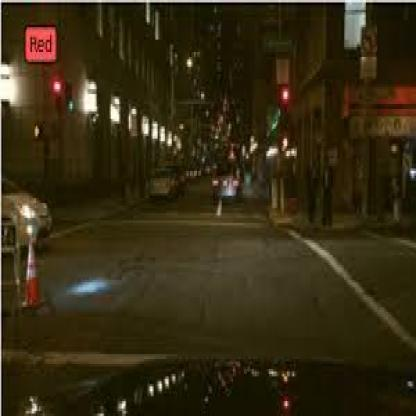car: (2, 136, 57, 258), (210, 138, 246, 218), (146, 152, 180, 205)
